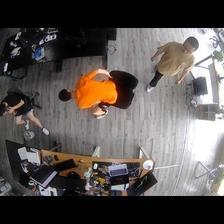normal: (56, 65, 122, 123), (145, 33, 199, 95), (1, 90, 50, 145)
